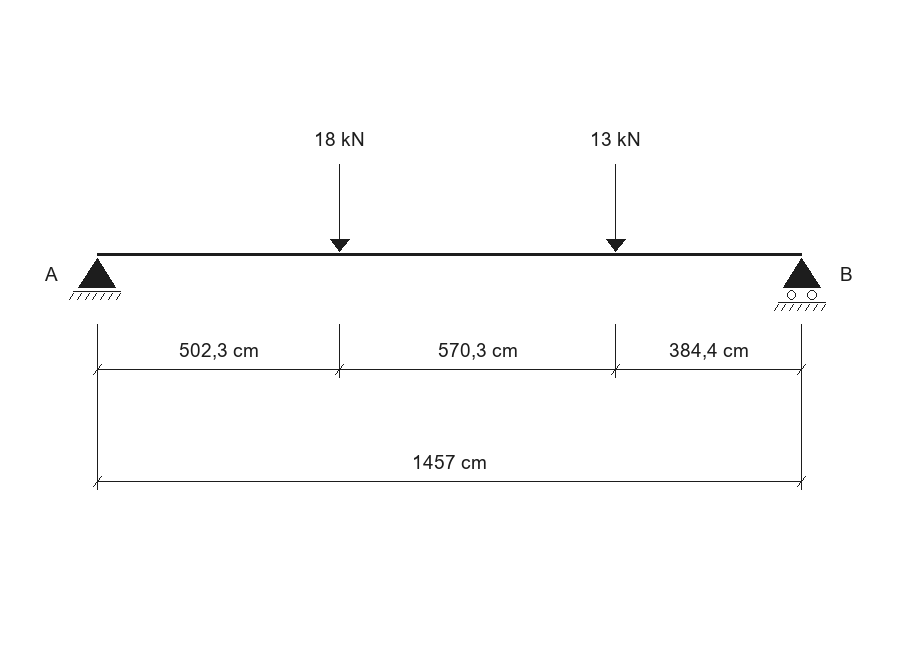pin_support: (69, 258, 121, 300)
point_load: (330, 164, 350, 252), (606, 164, 626, 252)
roller_support: (774, 258, 826, 311)
